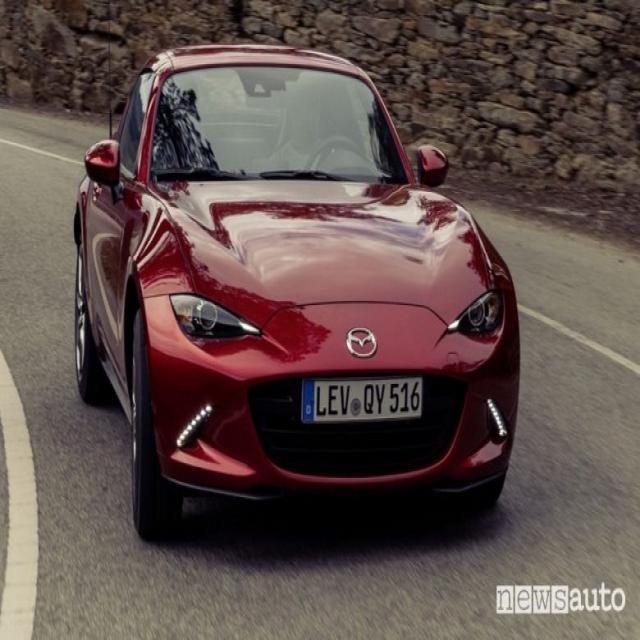yolov7-seg-car: (72, 3, 521, 541)
